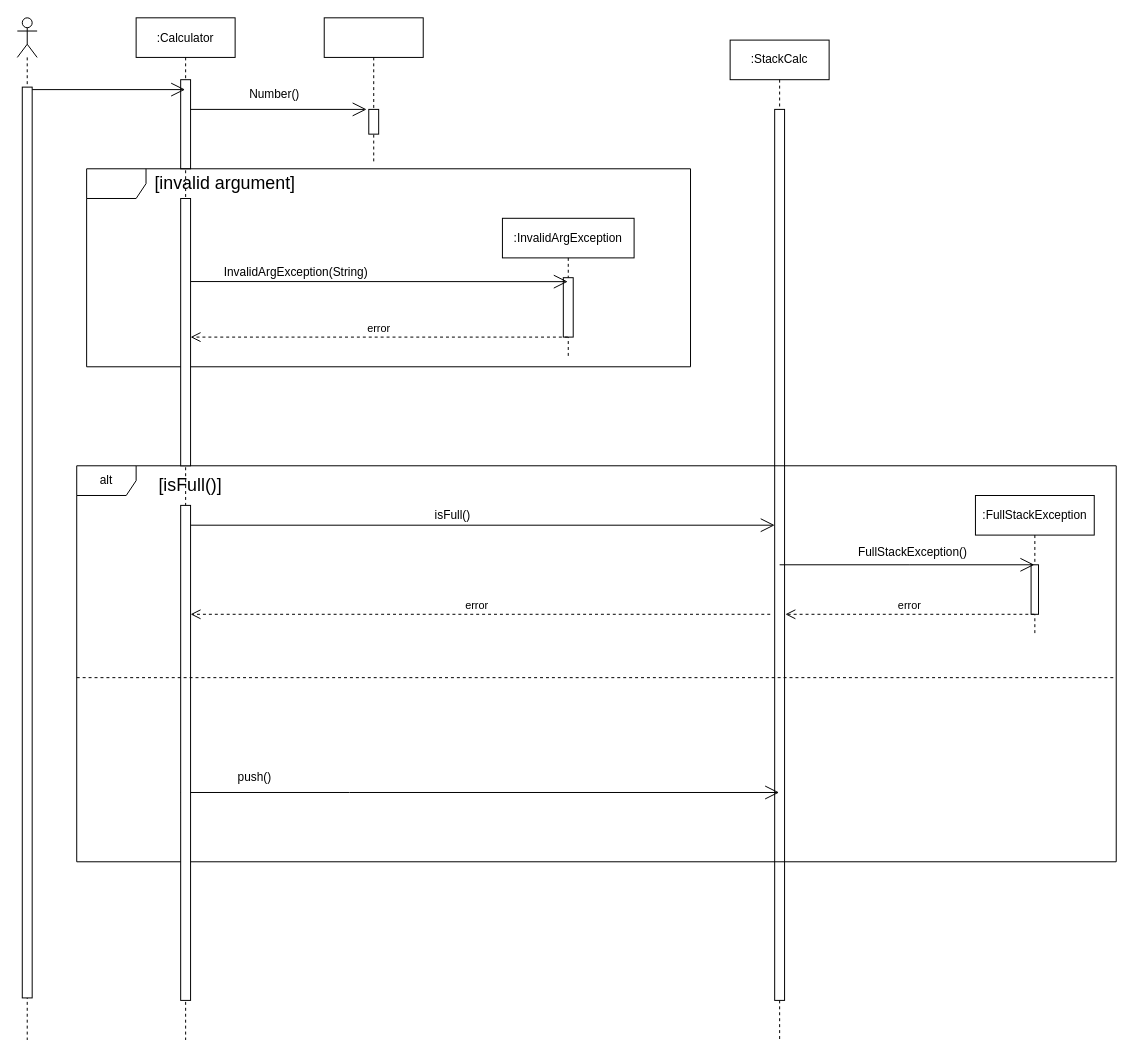
The diagram is 1134 pixels wide and 1057 high, and some of its shapes have lost their labels. The centre of each missing label's shape, as x and y in pixels:
":Number" belongs at (x=373, y=89).
"opt" belongs at (x=388, y=267).
